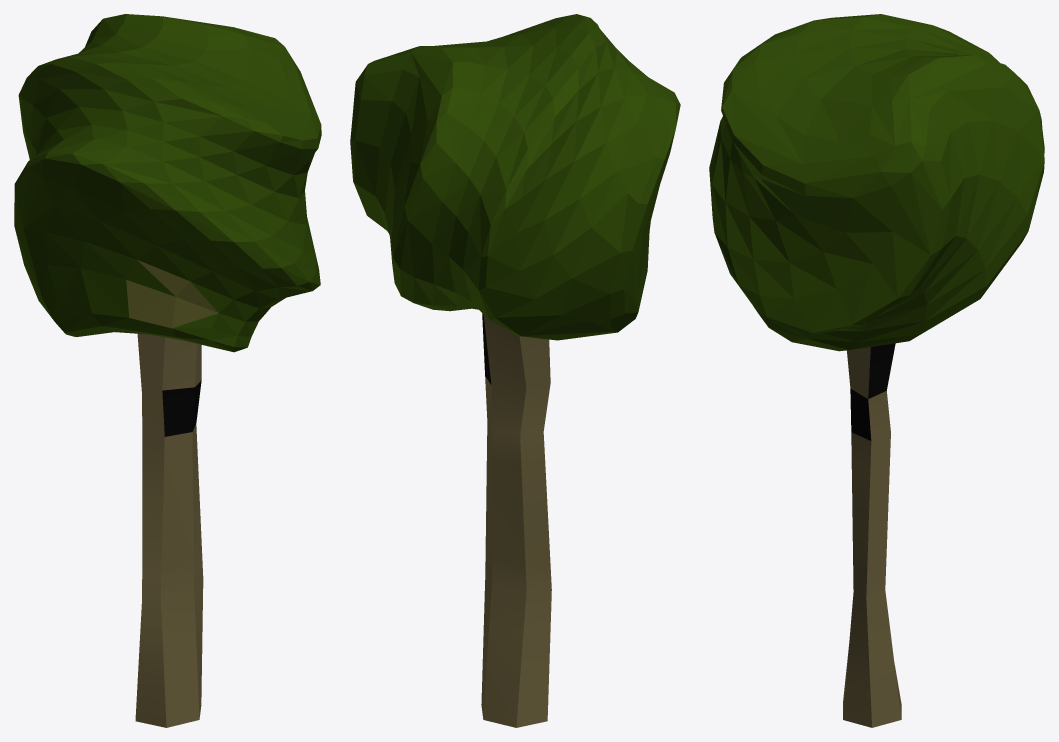
Rendered from tree_2.fbx.
The picture shows the model from 3 angles, left to right: view 1: azimuth 30°, elevation 25°; view 2: azimuth 150°, elevation 25°; view 3: azimuth 270°, elevation 25°; orthographic projection.
Parts seen in each view (by area): view 1: pCube7; view 2: pCube7; view 3: pCube7.
Boxes of the visible parts, bbox=[...] form: pCube7: bbox=[14, 14, 321, 727]; pCube7: bbox=[350, 14, 680, 727]; pCube7: bbox=[709, 14, 1044, 727].
Bounding box in the file's own units: 2.25 × 5.06 × 2.3.
